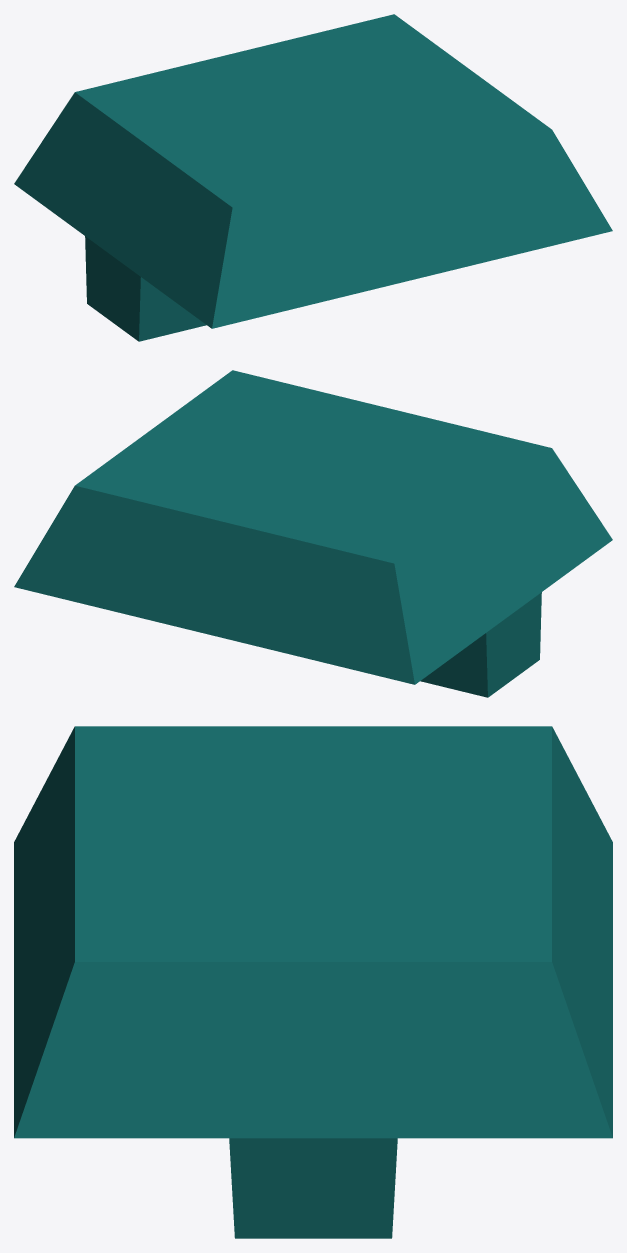
Rendered from Volume.fbx.
3 renders of one model, top to bottom at view 1: azimuth 30°, elevation 25°; view 2: azimuth 150°, elevation 25°; view 3: azimuth 270°, elevation 25°, orthographic. The views are drawn at different scales.
Parts seen in each view (by area): view 1: Volume; view 2: Volume; view 3: Volume.
Boxes of the visible parts, x1,y1,x2,y2 form: Volume: (14, 14, 612, 341); Volume: (14, 370, 612, 697); Volume: (14, 726, 612, 1238).
Bounding box in the file's own units: 4.73 × 1.84 × 4.04.
